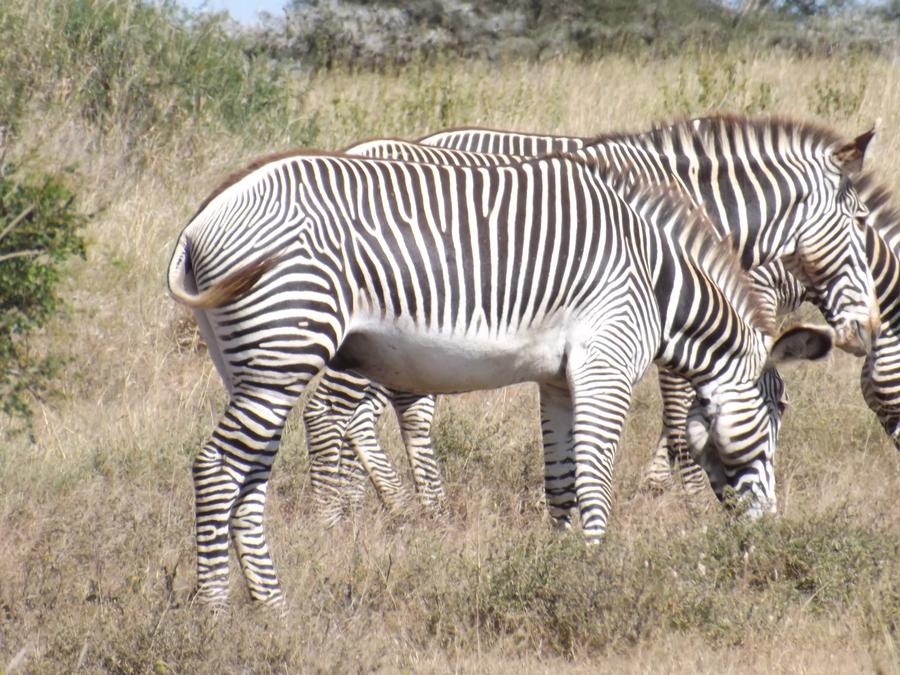zebra_grevys: (177, 130, 641, 389)
